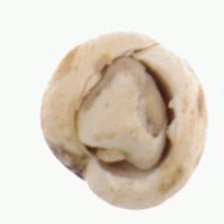L3: (71, 50, 175, 176)
L4: (39, 32, 209, 211)
